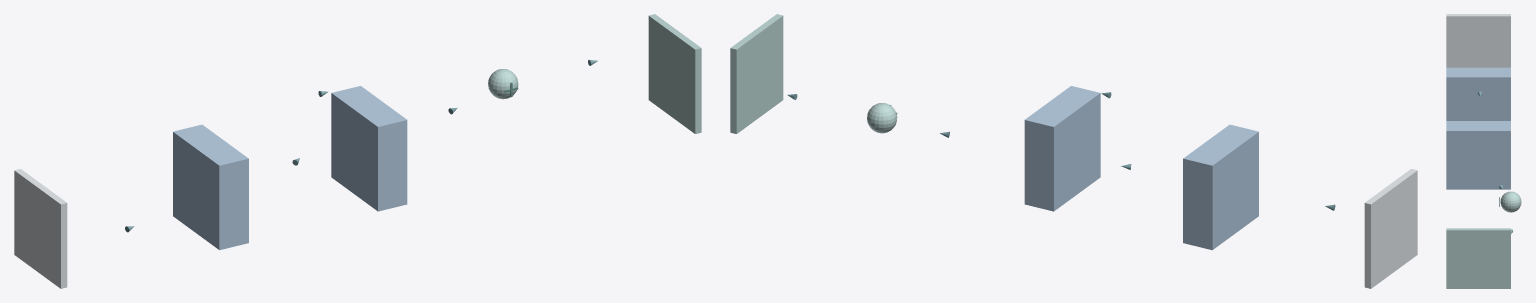
The model's file is ocean-sand.glb.
The picture shows the model from 3 angles, left to right: view 1: azimuth 30°, elevation 25°; view 2: azimuth 150°, elevation 25°; view 3: azimuth 270°, elevation 25°; orthographic projection. The views are drawn at different scales.
Visible parts, largest first — view 1: 3×3 Conv · BN · C × H × W, 3×3 Conv · BN + ReLU · C × H × W, Input · C × H × W, ReLU · C × H × W, Add · C × H × W; view 2: 3×3 Conv · BN · C × H × W, 3×3 Conv · BN + ReLU · C × H × W, Input · C × H × W, ReLU · C × H × W, Add · C × H × W; view 3: 3×3 Conv · BN · C × H × W, ReLU · C × H × W, Input · C × H × W, 3×3 Conv · BN + ReLU · C × H × W, Add · C × H × W.
Boxes of the visible parts, x1=… form: 3×3 Conv · BN · C × H × W: x1=331, y1=86, x2=407, y2=211; 3×3 Conv · BN + ReLU · C × H × W: x1=173, y1=124, x2=248, y2=250; Input · C × H × W: x1=14, y1=169, x2=67, y2=288; ReLU · C × H × W: x1=648, y1=14, x2=701, y2=133; Add · C × H × W: x1=488, y1=69, x2=518, y2=99; 3×3 Conv · BN · C × H × W: x1=1024, y1=86, x2=1100, y2=211; 3×3 Conv · BN + ReLU · C × H × W: x1=1183, y1=124, x2=1258, y2=250; Input · C × H × W: x1=1364, y1=169, x2=1417, y2=288; ReLU · C × H × W: x1=730, y1=14, x2=783, y2=133; Add · C × H × W: x1=867, y1=103, x2=897, y2=133; 3×3 Conv · BN · C × H × W: x1=1446, y1=121, x2=1510, y2=189; ReLU · C × H × W: x1=1446, y1=228, x2=1510, y2=288; Input · C × H × W: x1=1446, y1=14, x2=1510, y2=67; 3×3 Conv · BN + ReLU · C × H × W: x1=1446, y1=67, x2=1510, y2=120; Add · C × H × W: x1=1500, y1=191, x2=1521, y2=212.
Size of the model in its own units: 21.82 by 3.61 by 3.2.
